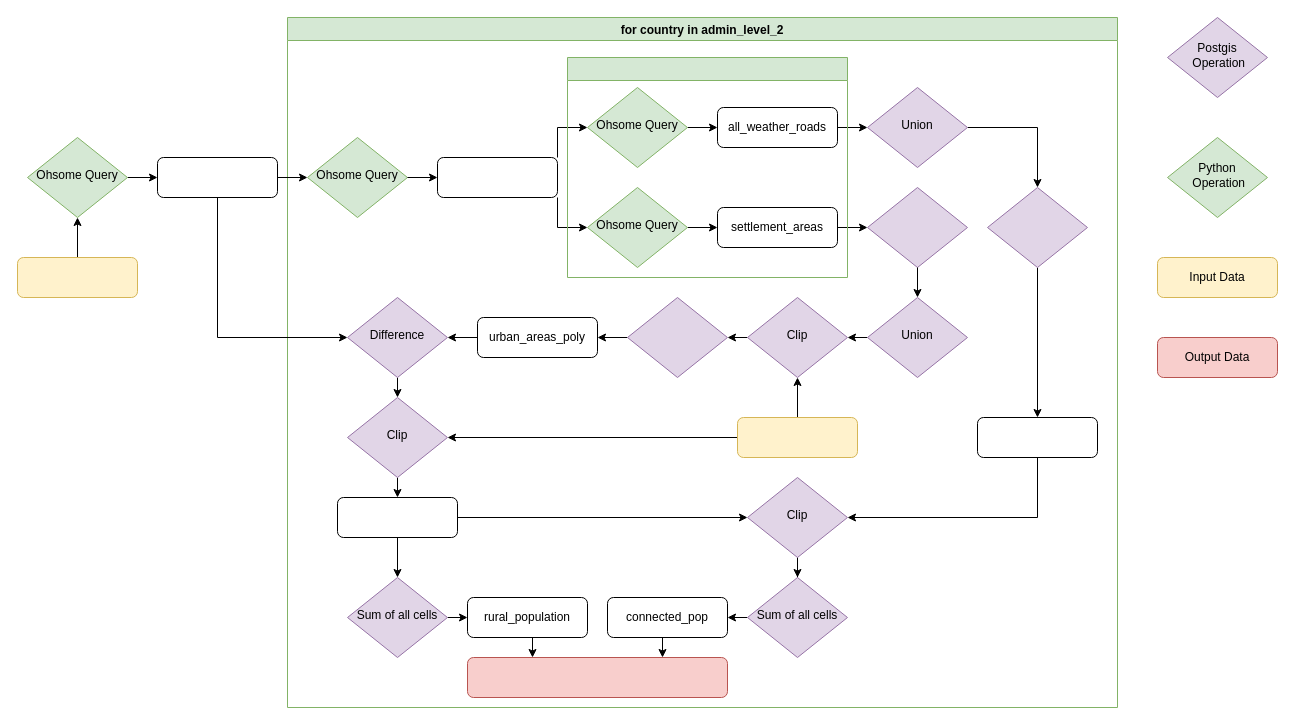
The diagram is 1295 pixels wide and 725 high, and some of its shapes have lost their labels. The shapes that lost their labels are listed below. From the top down, each one's centre as x and y in pixels, then its label:
At (217,177): "admin_level_2 areas".
At (497,177): "admin_level = 4 areas".
At (707,167): "for region in admin_level_4".
At (917,227): "Buffer".
At (1037,227): "Buffer 2 km".
At (77,277): "bounding polygon e.g. Africa".
At (677,337): "Select pop > 10.000".
At (797,437): "ghspop".
At (1037,437): "areas within 2 km of an all weather road".
At (397,517): "rural_areas_rast".
At (597,677): "Indicator_result = connected_pop / rural_pop * 100".
